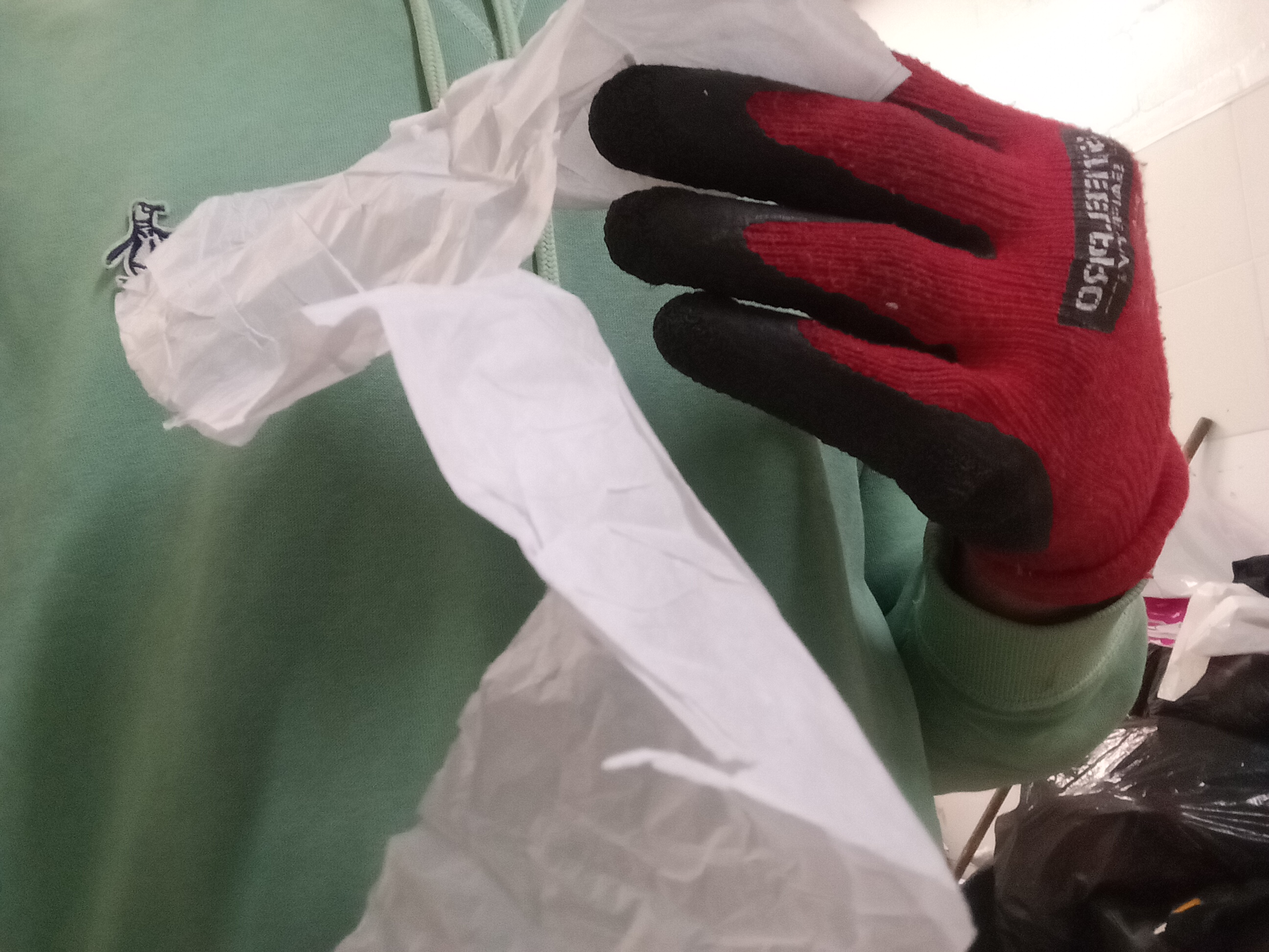Papel: (113, 0, 976, 952)
